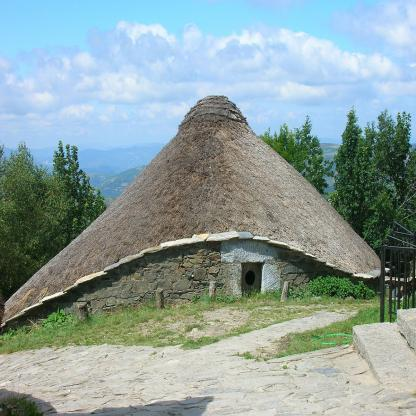Building Outline: (0, 95, 383, 336)
Dont: (380, 220, 416, 323), (287, 274, 378, 300)
Ground Floor: (5, 239, 379, 335)
Roof: (0, 95, 383, 326)
Window: (242, 264, 261, 297)
Window Hole: (242, 264, 263, 297)
